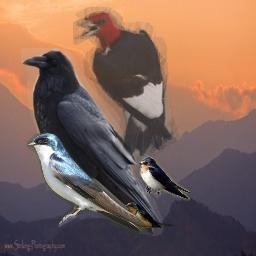Crow: (21, 48, 166, 237)
Swallow: (27, 133, 148, 233), (137, 156, 190, 201), (124, 202, 176, 228)
Woodpecker: (73, 5, 180, 156)
